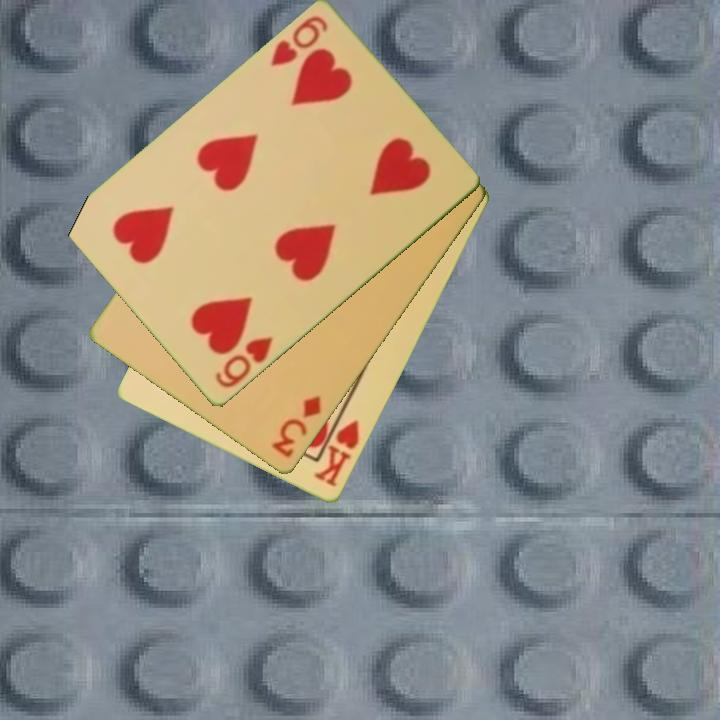3d: (268, 392, 325, 461)
6h: (211, 333, 276, 392), (267, 12, 331, 70)
Kh: (311, 407, 363, 491)
